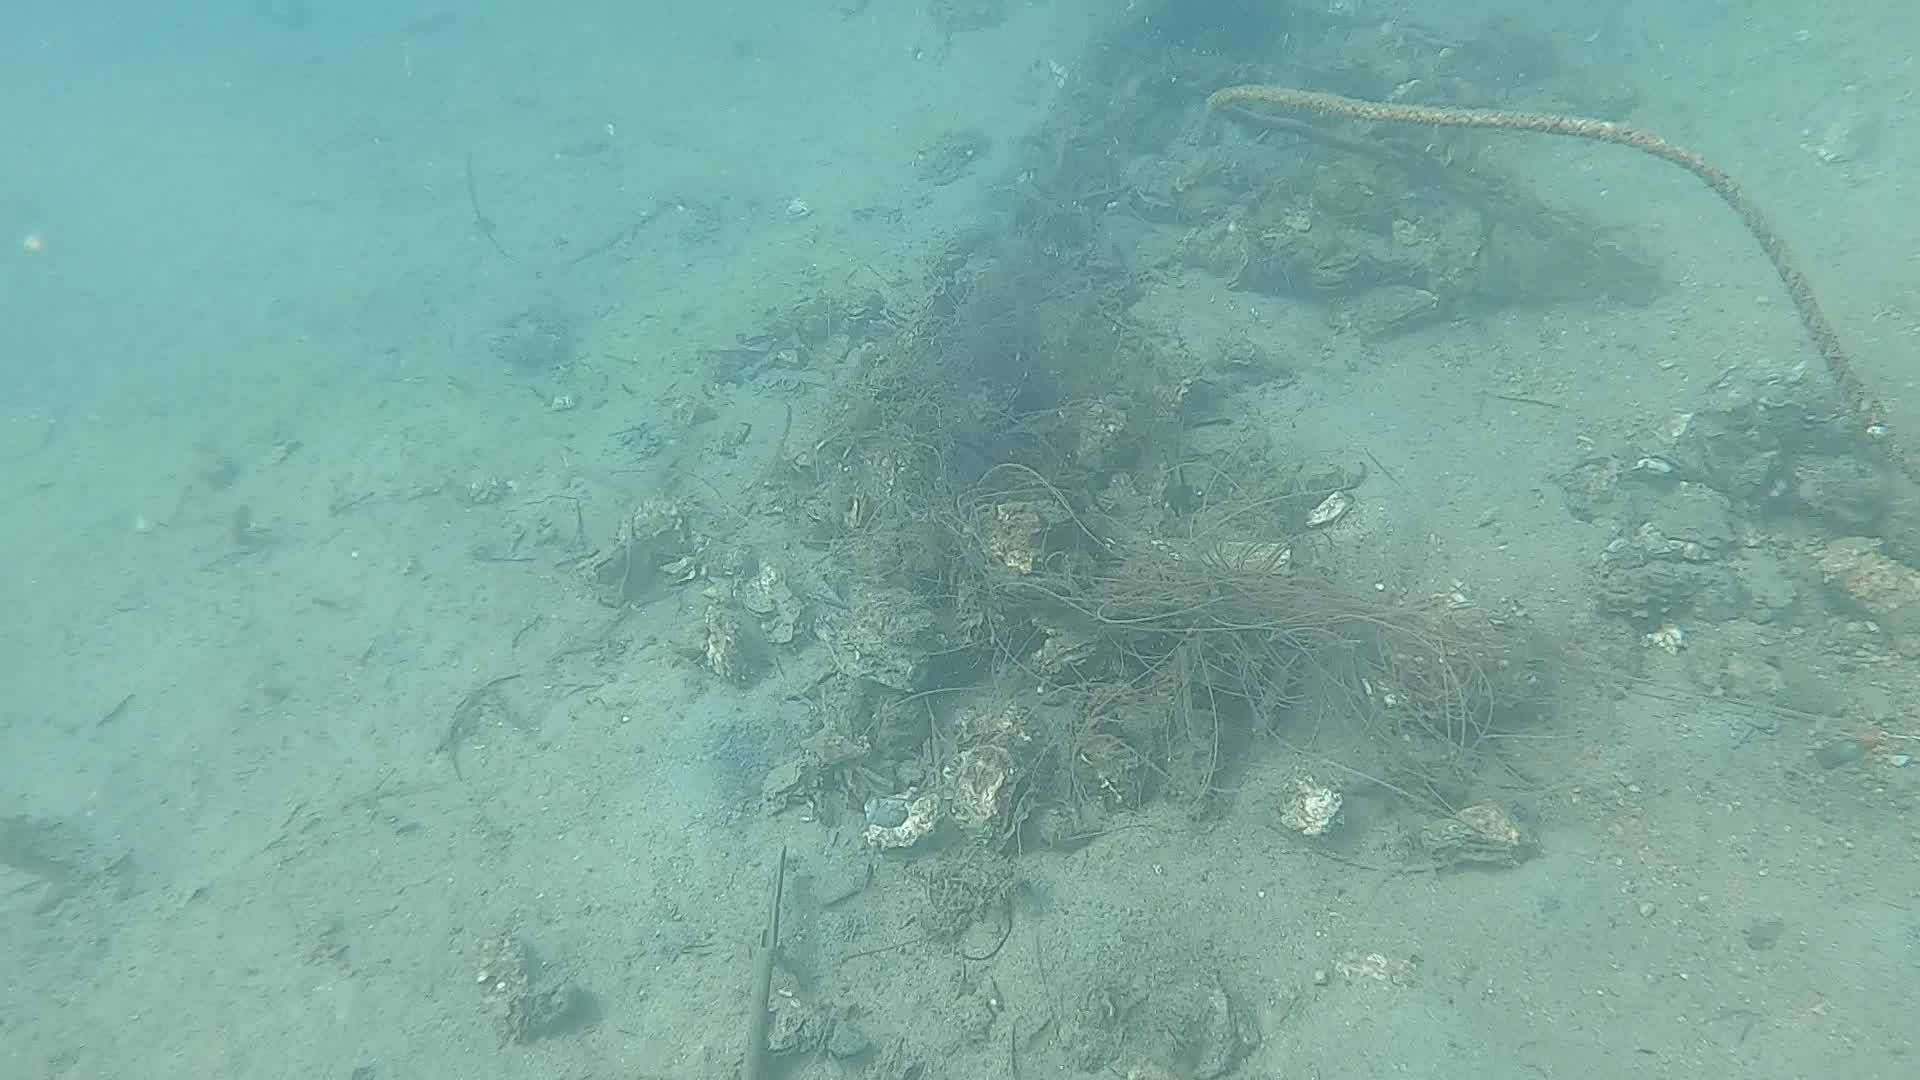rope: (1203, 78, 1920, 491)
